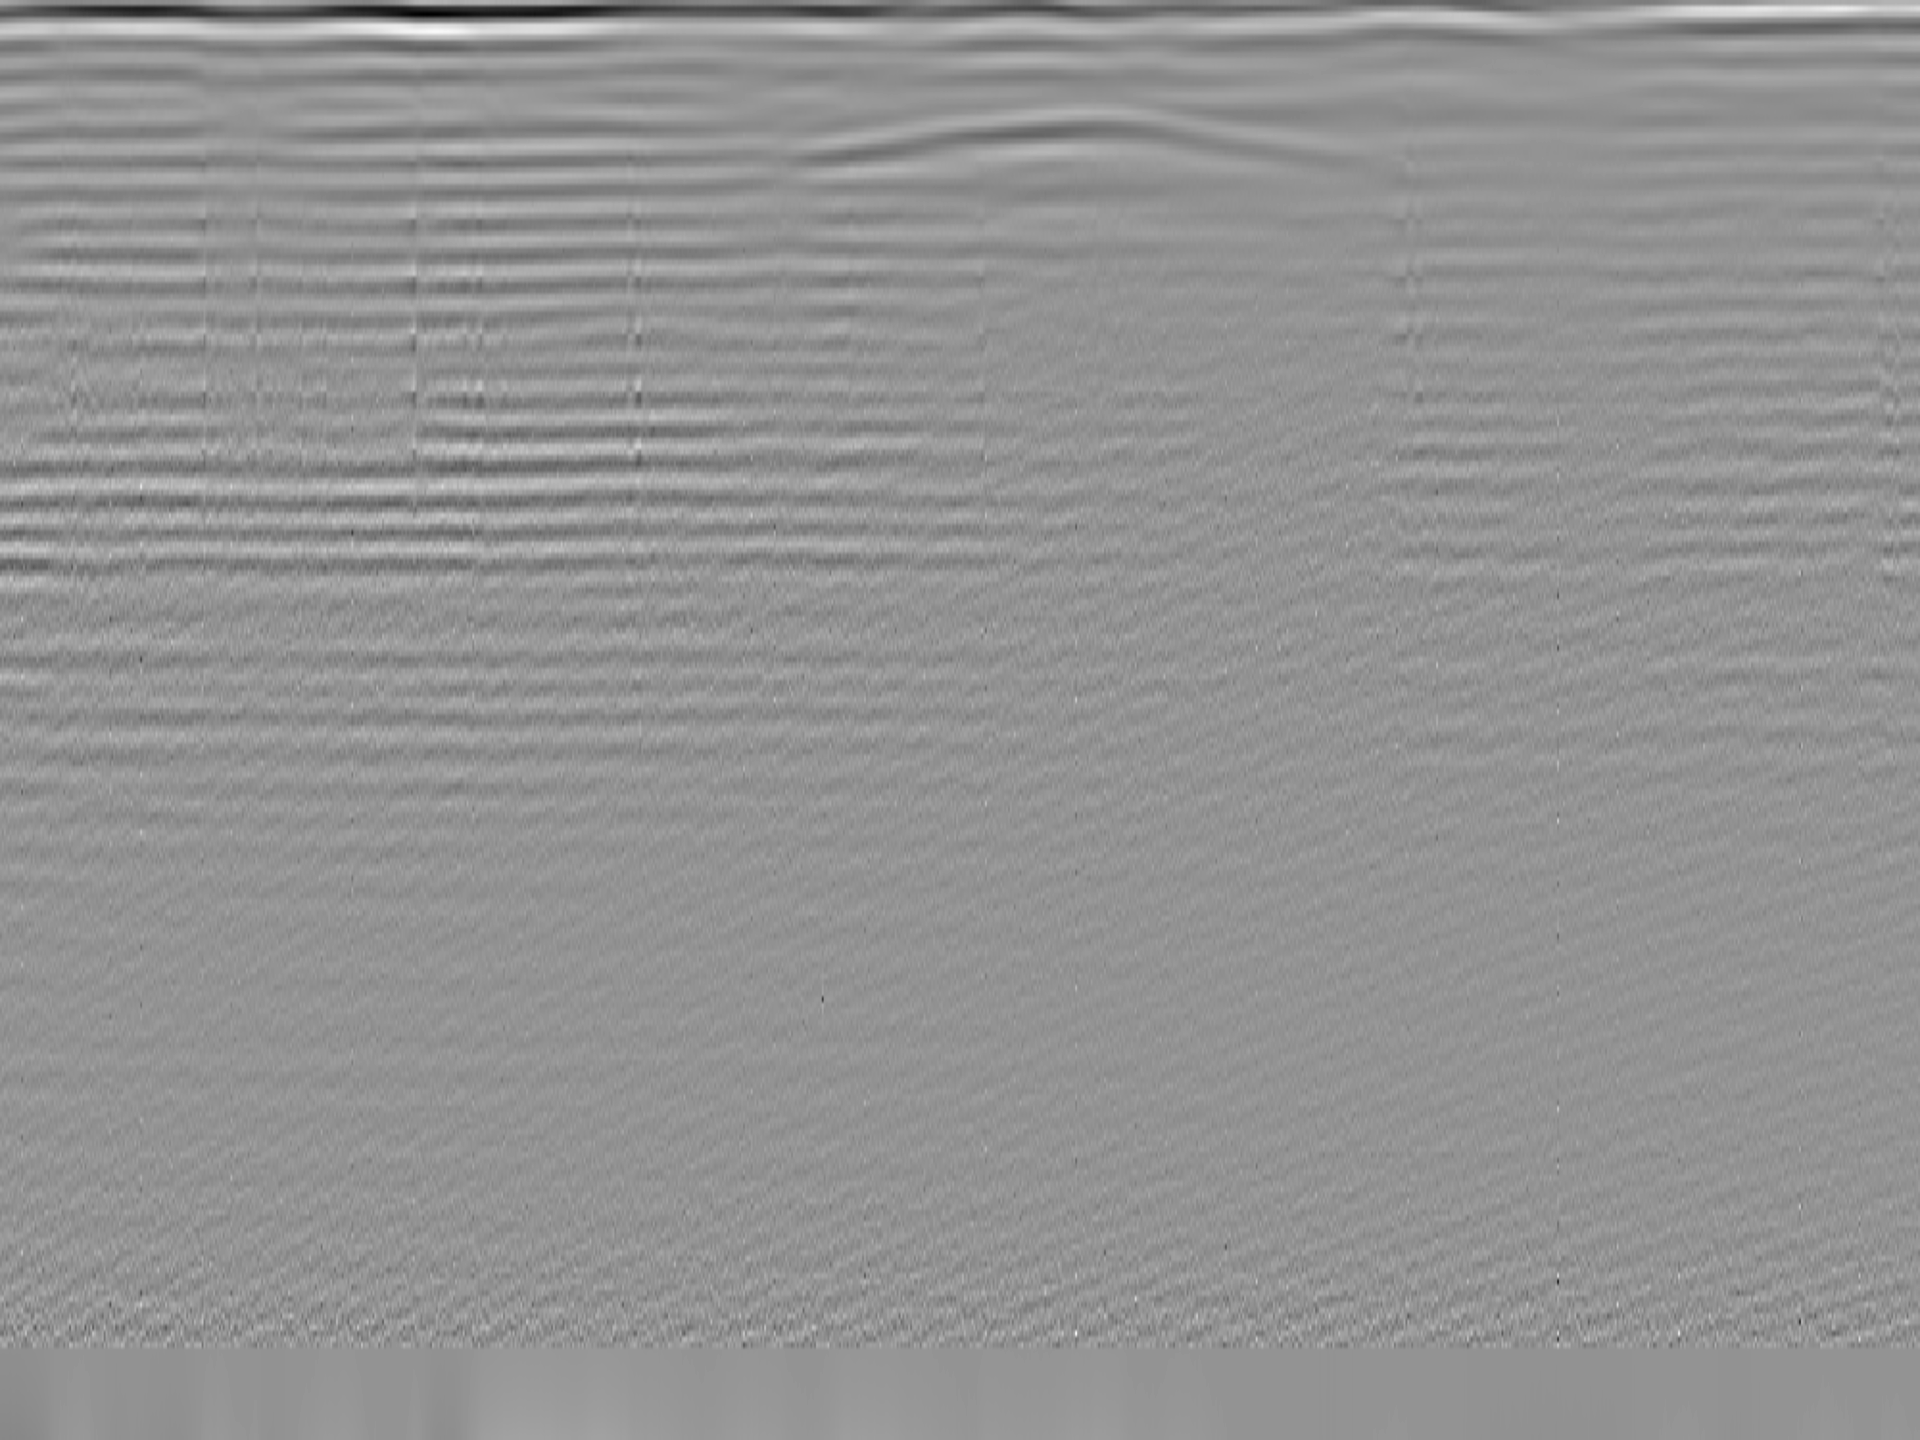Tunnel: (788, 109, 1404, 178)
